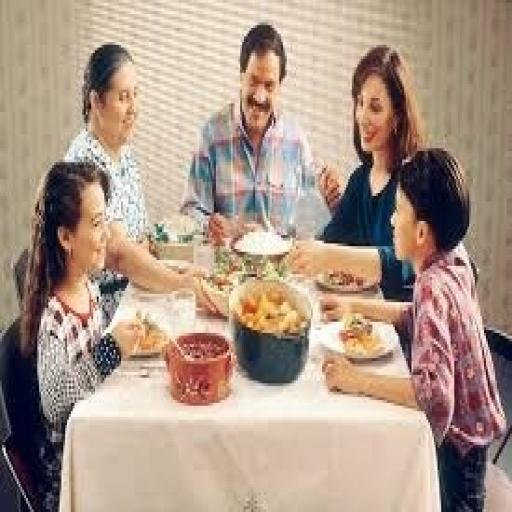eating: (11, 20, 505, 506), (179, 20, 339, 244)
